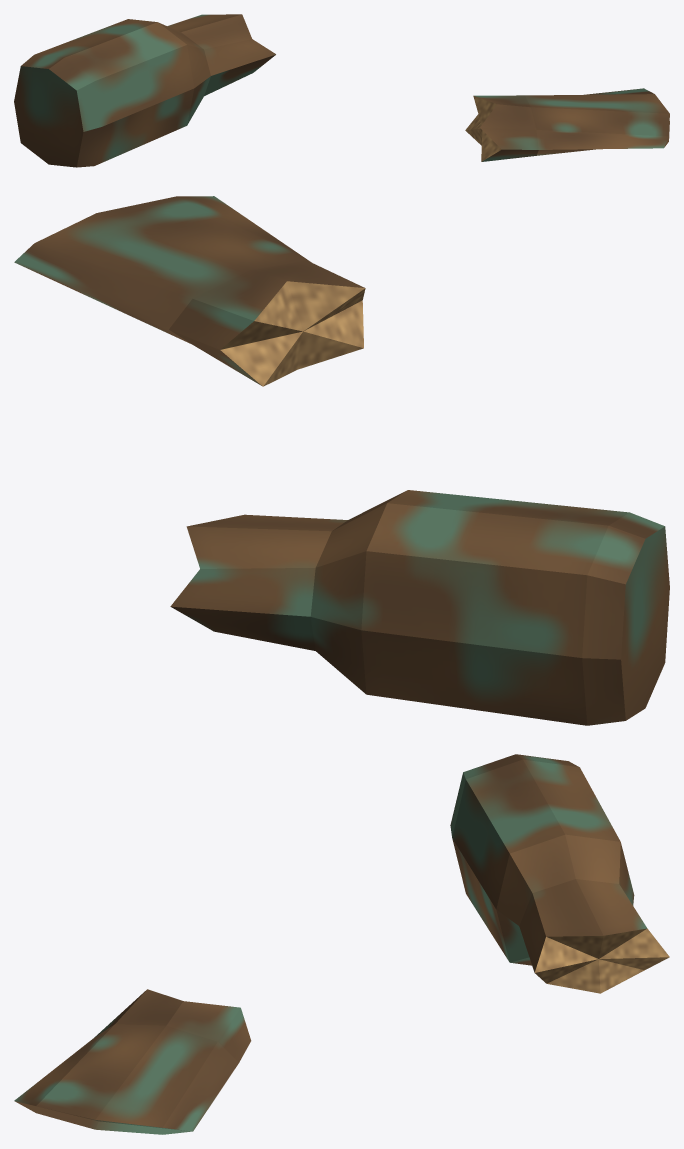
The model's file is axe_head_scrap.glb.
3 renders of one model, top to bottom at view 1: azimuth 30°, elevation 25°; view 2: azimuth 150°, elevation 25°; view 3: azimuth 270°, elevation 25°, orthographic. The views are drawn at different scales.
Visible parts, largest first — view 1: AXE_HEAD_SCRAP; view 2: AXE_HEAD_SCRAP; view 3: AXE_HEAD_SCRAP.
Boxes of the visible parts, box(x1,y1,x2,y2) form: AXE_HEAD_SCRAP: box(14, 14, 669, 167); AXE_HEAD_SCRAP: box(14, 196, 669, 725); AXE_HEAD_SCRAP: box(14, 754, 669, 1134).
Size of the model in its own units: 0.2075 by 0.043 by 0.1799.
Materials: 1 (1 with a texture image).
